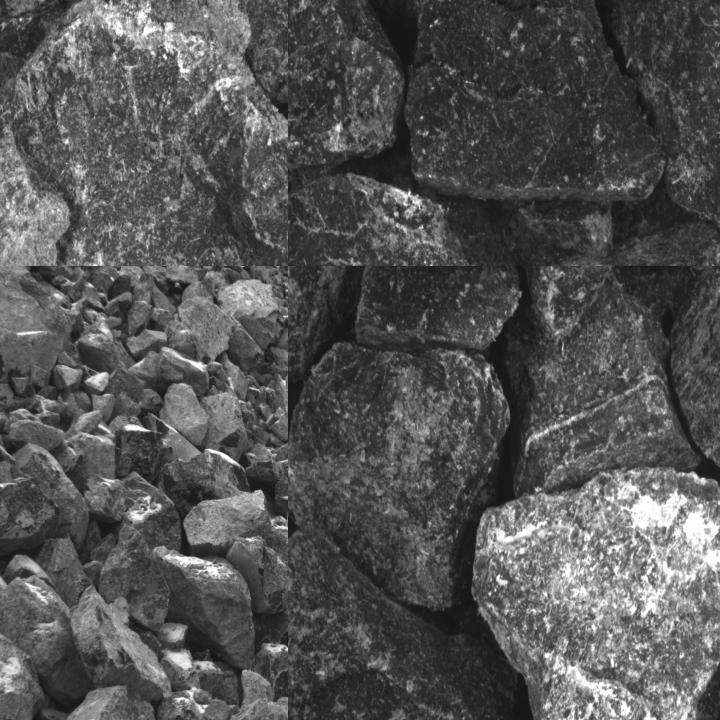stone: (0, 0, 287, 265), (470, 472, 719, 719), (288, 341, 511, 610), (405, 0, 666, 199), (506, 266, 703, 498), (288, 526, 517, 719), (606, 0, 719, 241), (288, 0, 405, 173), (288, 266, 420, 385), (357, 266, 519, 352), (156, 546, 255, 672), (194, 0, 287, 132), (0, 578, 91, 710), (69, 587, 170, 703), (672, 268, 719, 516), (500, 266, 655, 340), (96, 523, 170, 626), (169, 294, 263, 364), (509, 200, 611, 257), (163, 450, 247, 516), (186, 492, 271, 552), (227, 539, 287, 619), (0, 478, 58, 557), (0, 622, 45, 719), (221, 281, 282, 348), (114, 424, 174, 482), (52, 686, 157, 719), (198, 392, 246, 459), (159, 384, 209, 444), (246, 643, 287, 704), (158, 347, 209, 395), (106, 363, 148, 415), (275, 456, 287, 516), (23, 266, 78, 279)
